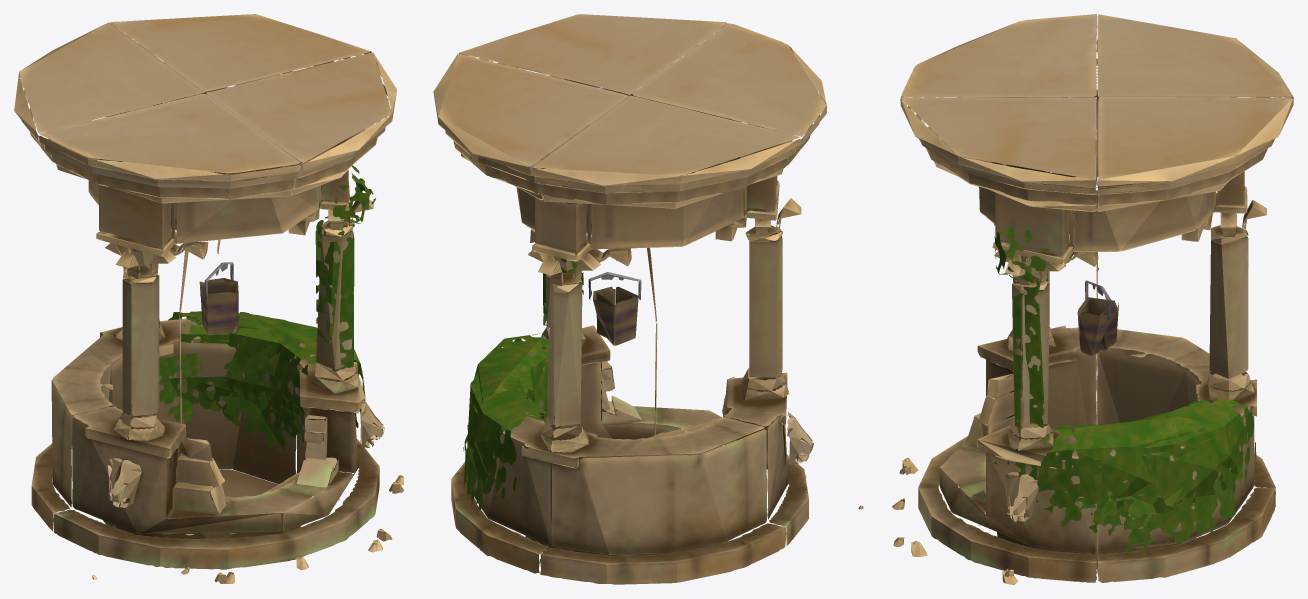
The model's file is prp_well.glb.
3 renders of one model, left to right at view 1: azimuth 30°, elevation 25°; view 2: azimuth 150°, elevation 25°; view 3: azimuth 270°, elevation 25°, orthographic. The views are drawn at different scales.
Visible parts, largest first — view 1: Medieval_Well_Medieval_Well_Mat_0; view 2: Medieval_Well_Medieval_Well_Mat_0; view 3: Medieval_Well_Medieval_Well_Mat_0.
Boxes of the visible parts, box(x1,y1,x2,y2) form: Medieval_Well_Medieval_Well_Mat_0: box(14, 14, 404, 583); Medieval_Well_Medieval_Well_Mat_0: box(433, 14, 863, 584); Medieval_Well_Medieval_Well_Mat_0: box(892, 14, 1293, 584).
Bounding box in the file's own units: 4.06 × 4.82 × 4.11.
1 material, 1 textured.
